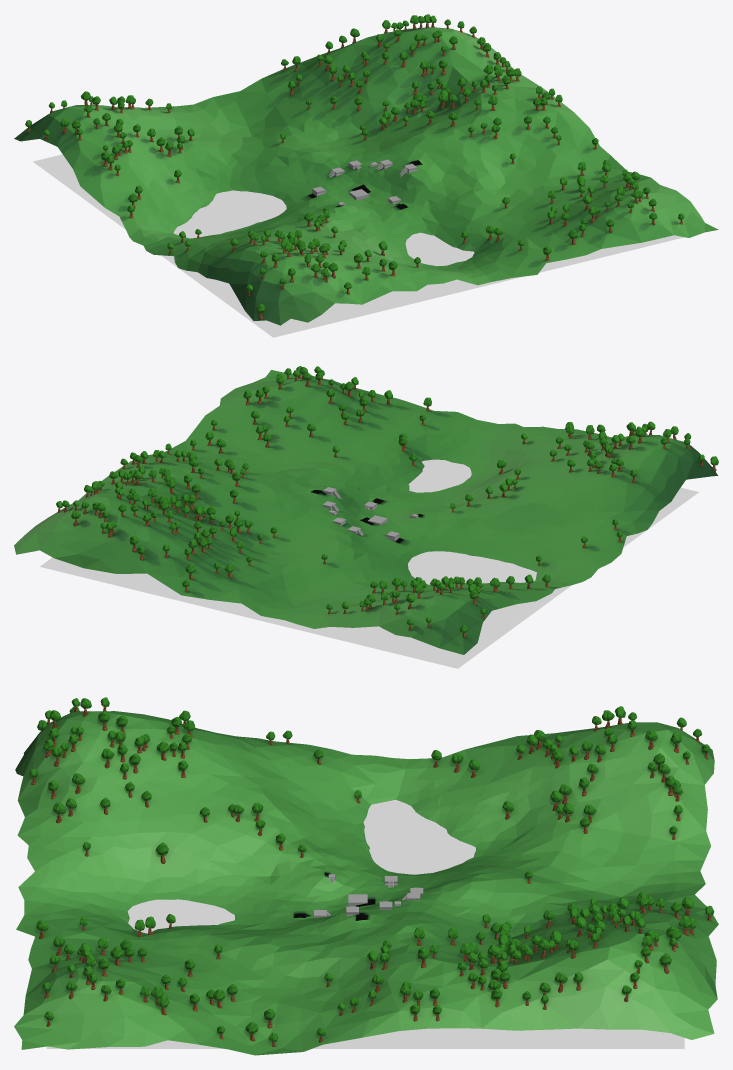
Rendered from landscape.fbx.
3 renders of one model, top to bottom at view 1: azimuth 30°, elevation 25°; view 2: azimuth 150°, elevation 25°; view 3: azimuth 270°, elevation 25°, orthographic. The views are drawn at different scales.
Visible parts, largest first — view 1: ground no path, water; view 2: ground no path, water; view 3: ground no path, water.
Part boxes in pixels (box(x1,y1,x2,y2)): ground no path: box(14, 27, 718, 325); water: box(33, 154, 683, 337); ground no path: box(14, 370, 717, 654); water: box(40, 459, 698, 668); ground no path: box(14, 711, 718, 1055); water: box(46, 800, 684, 1048).
Size of the model in its own units: 11079 by 1712 by 11050.
5 materials, 1 textured.
